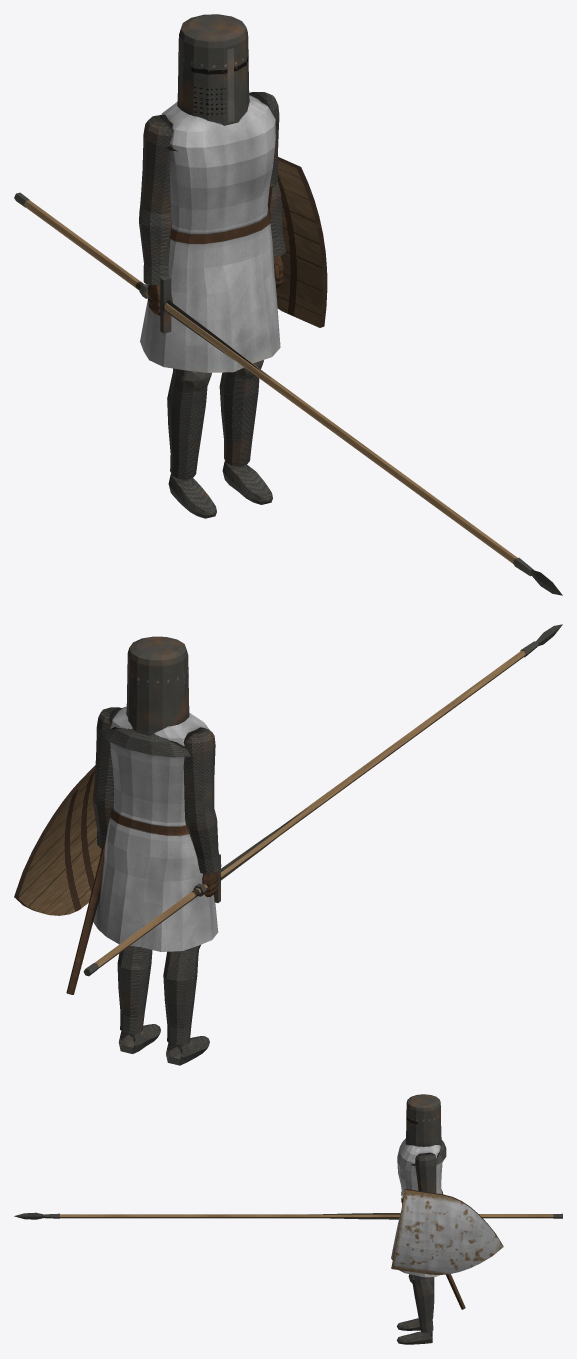
File: knights.glb
3 renders of one model, top to bottom at view 1: azimuth 30°, elevation 25°; view 2: azimuth 150°, elevation 25°; view 3: azimuth 270°, elevation 25°, orthographic. The views are drawn at different scales.
Parts seen in each view (by area): view 1: knights_LOD0; view 2: knights_LOD0; view 3: knights_LOD0.
Boxes of the visible parts, x1,y1,x2,y2 form: knights_LOD0: [14, 14, 562, 595]; knights_LOD0: [14, 624, 562, 1065]; knights_LOD0: [14, 1094, 562, 1344].
Size of what is drawn, in the model's own units: 0.6136 by 1.76 by 3.7.
1 material, 1 textured.
